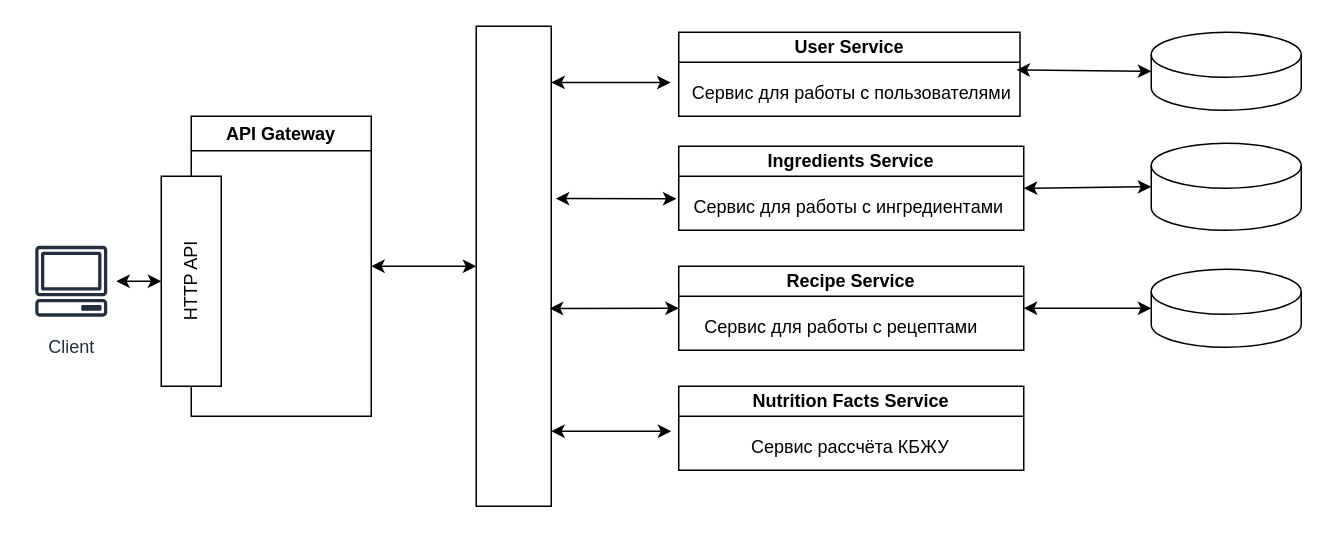
Image size: 1328x533. Some labels were removed from this diagram. The centre of each missing label's shape, as x and y in pixels:
Ingredients DB: point 1225,186
Message Broker: point 513,265
Recipe DB: point 1225,307
User DB: point 1225,70
